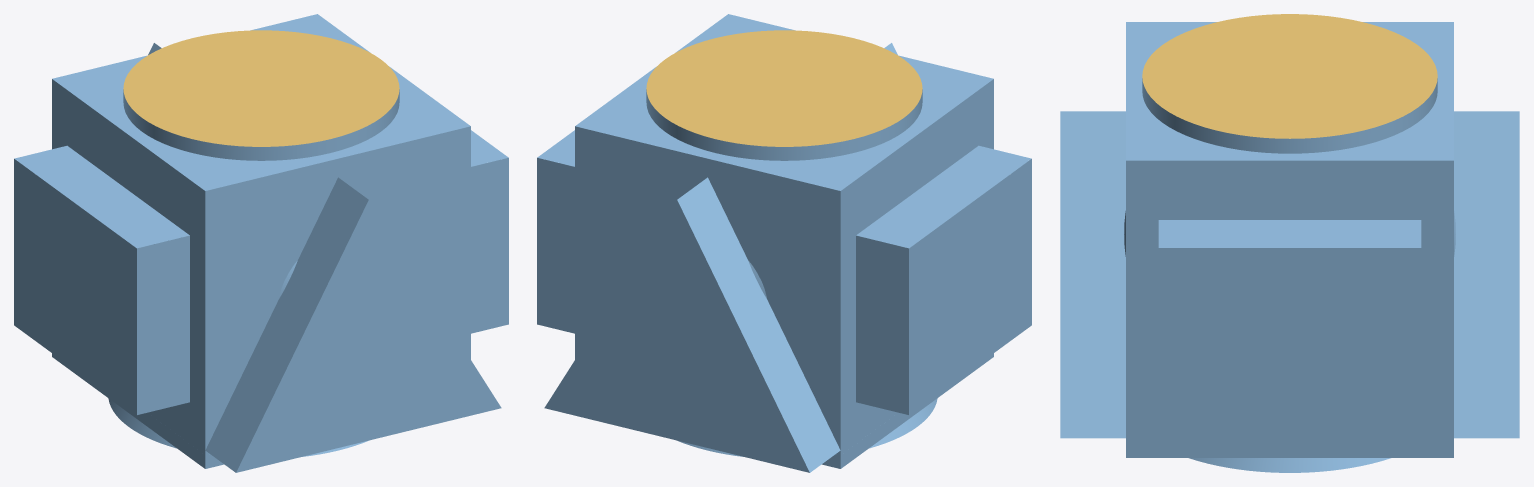
The model's file is solids.glb.
The picture shows the model from 3 angles, left to right: view 1: azimuth 30°, elevation 25°; view 2: azimuth 150°, elevation 25°; view 3: azimuth 270°, elevation 25°; orthographic projection. The views are drawn at different scales.
Visible parts, largest first — view 1: cube_front, prism_front, cylinder_top, cuboid_left, cuboid_front, cube_left, prism_left, cube_top, cuboid_top, cylinder_curved, cone_curved; view 2: cube_back, prism_back, cylinder_top, cuboid_left, cuboid_back, cube_left, prism_left, cube_top, cuboid_top, cylinder_curved, cone_curved; view 3: cuboid_right, cube_right, prism_right, cylinder_top, cube_top, cuboid_top, cylinder_curved, cone_curved.
Boxes of the visible parts, box(x1,y1,x2,y2) form: cube_front: box(205, 126, 470, 468); prism_front: box(236, 200, 501, 472); cylinder_top: box(123, 30, 399, 146); cuboid_left: box(14, 159, 136, 414); cuboid_front: box(137, 157, 508, 414); cube_left: box(52, 79, 205, 468); prism_left: box(148, 43, 368, 472); cube_top: box(52, 14, 470, 190); cuboid_top: box(14, 130, 508, 248); cylinder_curved: box(123, 89, 399, 160); cone_curved: box(108, 398, 368, 456); cube_back: box(575, 126, 840, 468); prism_back: box(544, 200, 809, 472); cylinder_top: box(646, 30, 922, 146); cuboid_left: box(909, 159, 1031, 414); cuboid_back: box(537, 157, 908, 414); cube_left: box(840, 79, 993, 468); prism_left: box(677, 43, 897, 472); cube_top: box(575, 14, 993, 190); cuboid_top: box(537, 130, 1031, 248); cylinder_curved: box(646, 89, 922, 160); cone_curved: box(677, 398, 937, 456); cuboid_right: box(1158, 248, 1421, 426); cube_right: box(1126, 160, 1453, 457); prism_right: box(1060, 111, 1519, 438); cylinder_top: box(1142, 14, 1437, 138); cube_top: box(1126, 22, 1453, 160); cuboid_top: box(1158, 220, 1421, 247); cylinder_curved: box(1142, 78, 1437, 153); cone_curved: box(1189, 458, 1390, 472).
Bounding box in the file's own units: 0.14 × 0.11 × 0.14.
